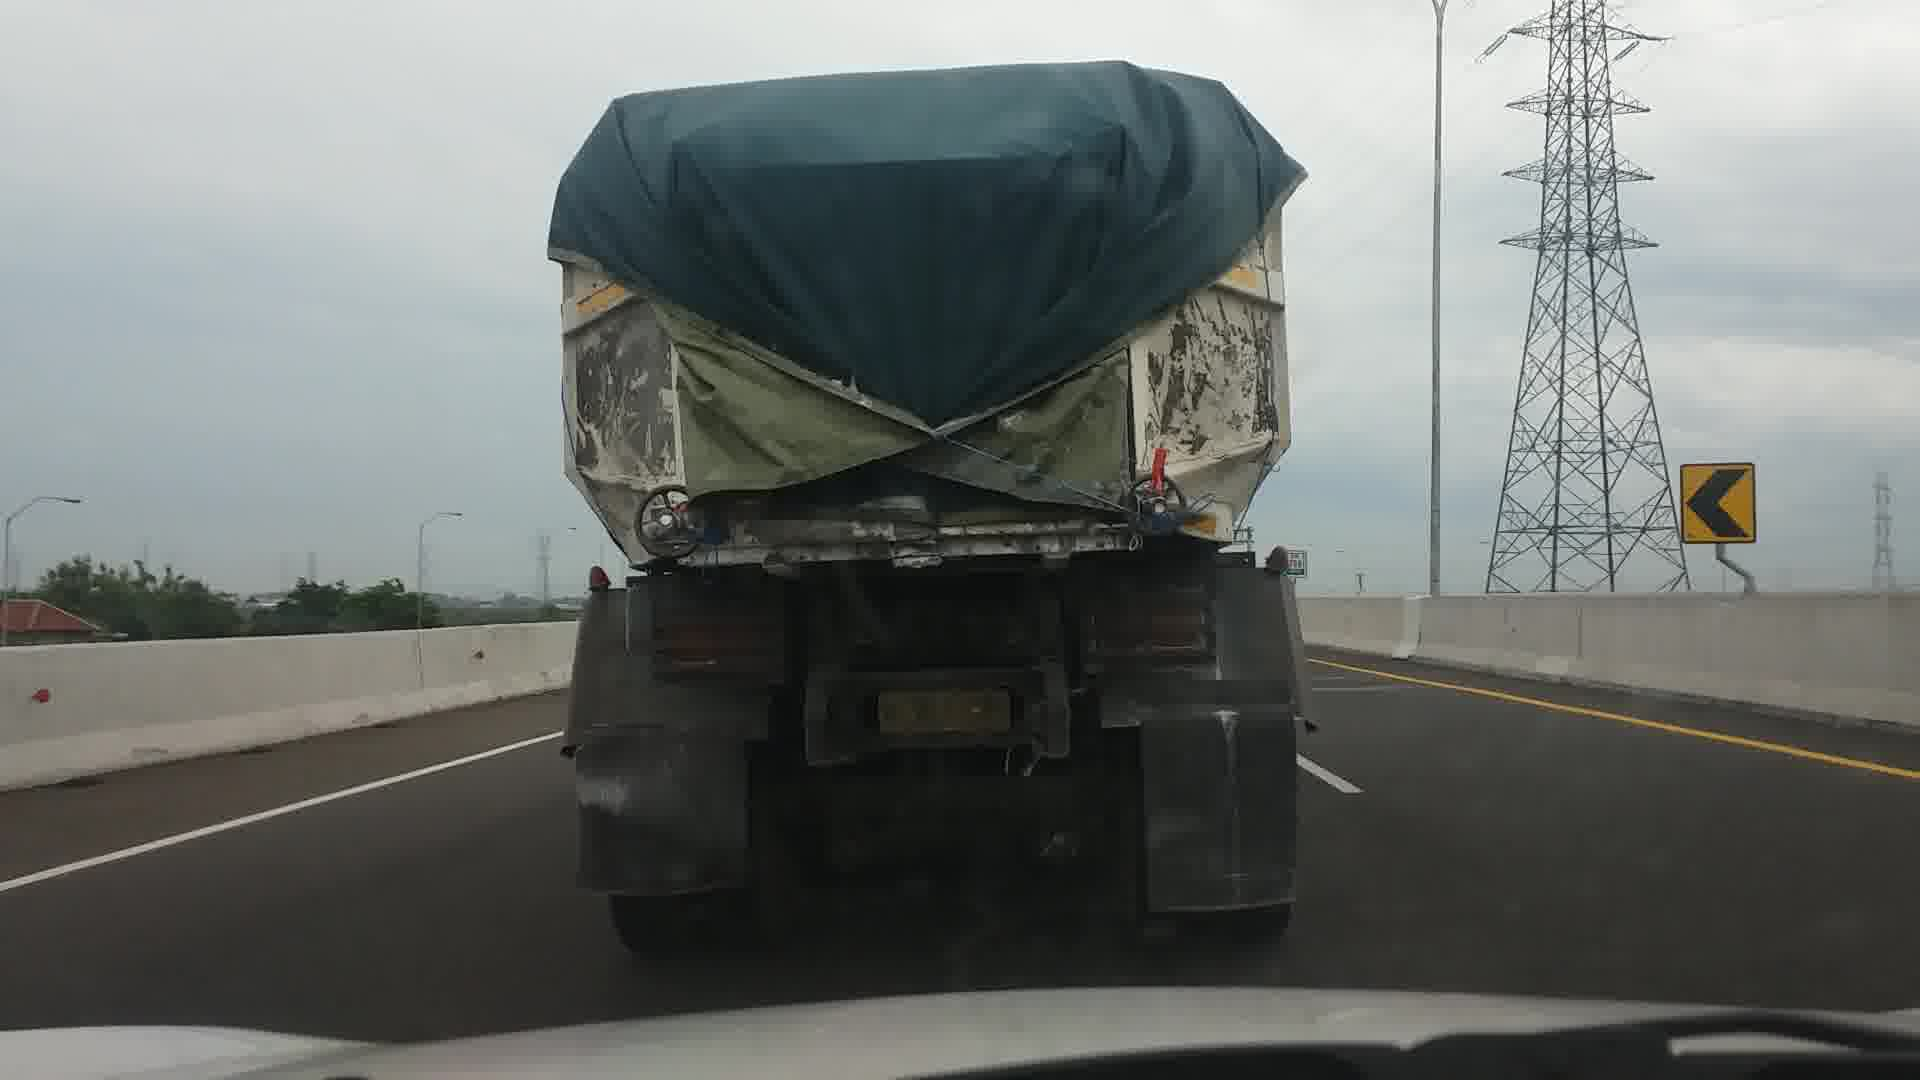plate_positive: (878, 688, 1011, 733)
